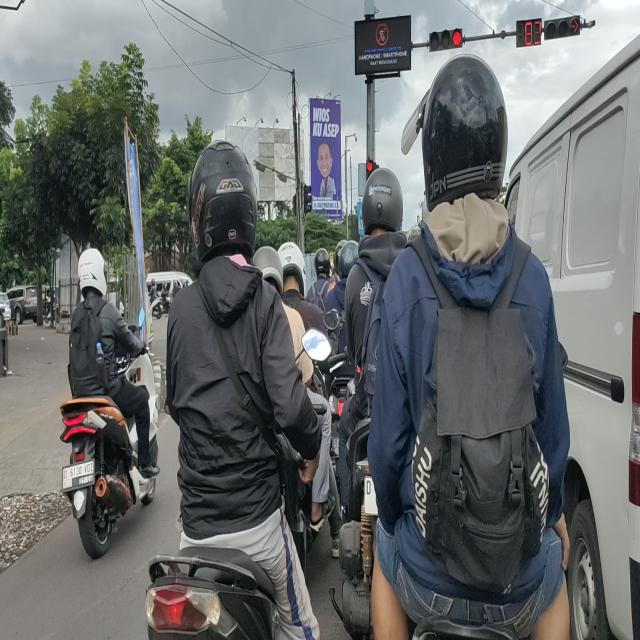helmet: (424, 57, 511, 207), (188, 149, 258, 265), (361, 169, 404, 238), (78, 251, 110, 303), (280, 247, 308, 293), (256, 247, 281, 296), (336, 243, 360, 278), (314, 249, 333, 280)
